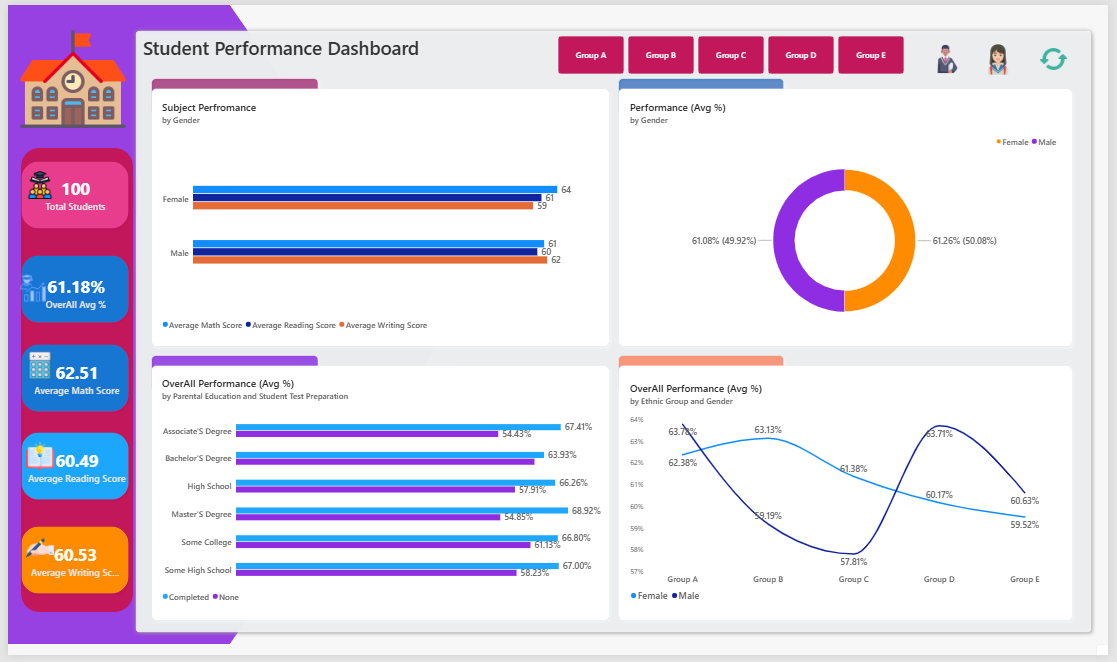

This screenshot's page, from the dashboard's own definition file:
{"tool":"powerbi","page":{"name":"Page 1","canvas":[2200,1300],"ordinal":0},"visuals":[{"type":"shape","box":[0,0,888,1278],"z":0},{"type":"shape","box":[1212,138,348.4,91.1],"z":0,"group":"g1"},{"type":"shape","box":[246,42,1930,1222],"z":1000},{"type":"shape","box":[1212,157.7,926,534.3],"z":1000,"group":"g1"},{"type":"shape","box":[26,286,224,928],"z":2000},{"type":"shape","box":[18,304,232,152],"z":3000},{"type":"shape","box":[18,492,232,152],"z":4000},{"type":"shape","box":[18,846,232,152],"z":5000},{"type":"shape","box":[18,1034,232,152],"z":6000},{"type":"shape","box":[18,670,232,152],"z":7000},{"type":"textbox","box":[270,60,780,78],"z":8000},{"type":"image","box":[1826,78,106,60],"z":9000},{"type":"image","box":[1932,78,96,62],"z":10000},{"type":"cardVisual","fields":{"Data":["Student Performance.Average Math Score"]},"box":[36,692,204,110],"z":11000},{"type":"cardVisual","fields":{"Data":["Student Performance.Average Reading Score"]},"box":[28,864,220,116],"z":12000},{"type":"cardVisual","fields":{"Data":["Student Performance.Average Writing Score"]},"box":[34,1048,202,124],"z":13000},{"type":"cardVisual","fields":{"Data":["Student Performance.Total Students"]},"box":[50,322,170,114],"z":14000},{"type":"cardVisual","fields":{"Data":["Student Performance.OverAll Avg %"]},"box":[36,524,200,102],"z":15000},{"type":"image","box":[36,322,56,76],"z":16000},{"type":"image","box":[22,524,56,84],"z":17000},{"type":"image","box":[36,692,56,58],"z":18000},{"type":"image","box":[36,864,56,76],"z":19000},{"type":"image","box":[36,1048,56,76],"z":20000},{"type":"group","id":"g1","title":"Group 1","box":[1212,138,926,554],"z":21000},{"type":"shape","box":[278,692,351.4,90.1],"z":21000,"group":"g3"},{"type":"group","id":"g2","title":"Group 2","box":[278,138,934,554],"z":22000},{"type":"shape","box":[278,711.5,934,528.5],"z":22000,"group":"g3"},{"type":"shape","box":[278,138,351.4,91.1],"z":23000,"group":"g2"},{"type":"group","id":"g3","title":"Group 3","box":[278,692,934,548],"z":23000},{"type":"shape","box":[1212,692,348.4,90.1],"z":23000,"group":"g4"},{"type":"shape","box":[278,157.7,934,534.3],"z":24000,"group":"g2"},{"type":"group","id":"g4","title":"Group 4","box":[1212,692,926,548],"z":24000},{"type":"shape","box":[1212,711.5,926,528.5],"z":24000,"group":"g4"},{"type":"advancedSlicerVisual","title":"Ethnic Group","fields":{"Values":["Student Performance.Ethnic_Group"]},"box":[1100,62,694,76],"z":25000},{"type":"listSlicer","fields":{"Values":["Student Performance.Gender"]},"box":[2176,1278,24,22],"z":26000},{"type":"image","box":[2064,78,54,60],"z":27000},{"type":"clusteredBarChart","title":"Subject Perfromance ","fields":{"Category":["Student Performance.Gender"],"Y":["Student Performance.Average Math Score","Student Performance.Average Reading Score","Student Performance.Average Writing Score"]},"box":[292,176,896,494],"z":28000},{"type":"image","box":[20,42,220,212],"z":29000},{"type":"donutChart","title":"Performance (Avg %)","fields":{"Category":["Student Performance.Gender"],"Y":["Student Performance.OverAll Avg %"]},"box":[1228,176,890,494],"z":30000},{"type":"lineChart","title":"OverAll  Performance (Avg %)","fields":{"Y":["Student Performance.OverAll Avg %"],"Category":["Student Performance.Ethnic_Group"],"Series":["Student Performance.Gender"]},"box":[1228,738,890,476],"z":31000},{"type":"clusteredBarChart","title":"OverAll Performance (Avg %)","fields":{"Category":["Student Performance.Parental_Education"],"Y":["Student Performance.OverAll Avg %"],"Series":["Student Performance.Test_Preparation"]},"box":[292,728,910,486],"z":32000}]}

Visuals, with their boxes in screenshot pixels (x1, y1, x2, y2), scaled from the page's 2200x1300 canvas onto the 1117x662 screenshot:
shape: rect(0, 0, 451, 651)
shape: rect(615, 70, 792, 117)
shape: rect(125, 21, 1105, 644)
shape: rect(615, 80, 1086, 352)
shape: rect(13, 146, 127, 618)
shape: rect(9, 155, 127, 232)
shape: rect(9, 251, 127, 328)
shape: rect(9, 431, 127, 508)
shape: rect(9, 527, 127, 604)
shape: rect(9, 341, 127, 419)
textbox: rect(137, 31, 533, 70)
image: rect(927, 40, 981, 70)
image: rect(981, 40, 1030, 71)
cardVisual - Student Performance.Average Math Score: rect(18, 352, 122, 408)
cardVisual - Student Performance.Average Reading Score: rect(14, 440, 126, 499)
cardVisual - Student Performance.Average Writing Score: rect(17, 534, 120, 597)
cardVisual - Student Performance.Total Students: rect(25, 164, 112, 222)
cardVisual - Student Performance.OverAll Avg %: rect(18, 267, 120, 319)
image: rect(18, 164, 47, 203)
image: rect(11, 267, 40, 310)
image: rect(18, 352, 47, 382)
image: rect(18, 440, 47, 479)
image: rect(18, 534, 47, 572)
"Group 1" group: rect(615, 70, 1086, 352)
shape: rect(141, 352, 320, 398)
"Group 2" group: rect(141, 70, 615, 352)
shape: rect(141, 362, 615, 631)
shape: rect(141, 70, 320, 117)
"Group 3" group: rect(141, 352, 615, 631)
shape: rect(615, 352, 792, 398)
shape: rect(141, 80, 615, 352)
"Group 4" group: rect(615, 352, 1086, 631)
shape: rect(615, 362, 1086, 631)
"Ethnic Group" advancedSlicerVisual: rect(558, 32, 911, 70)
listSlicer - Student Performance.Gender: rect(1105, 651, 1116, 661)
image: rect(1048, 40, 1075, 70)
"Subject Perfromance " clusteredBarChart: rect(148, 90, 603, 341)
image: rect(10, 21, 122, 129)
"Performance (Avg %)" donutChart: rect(623, 90, 1075, 341)
"OverAll  Performance (Avg %)" lineChart: rect(623, 376, 1075, 618)
"OverAll Performance (Avg %)" clusteredBarChart: rect(148, 371, 610, 618)
